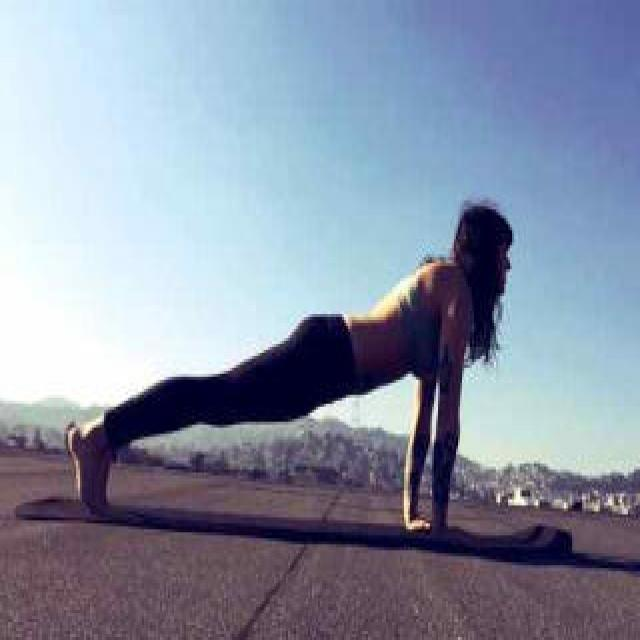yoga-pose plank: (66, 208, 520, 534)
